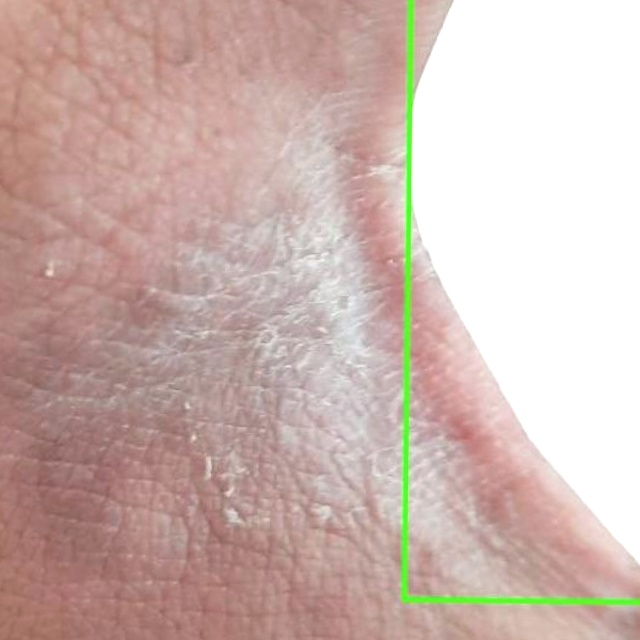Scabies: (404, 0, 639, 602)
